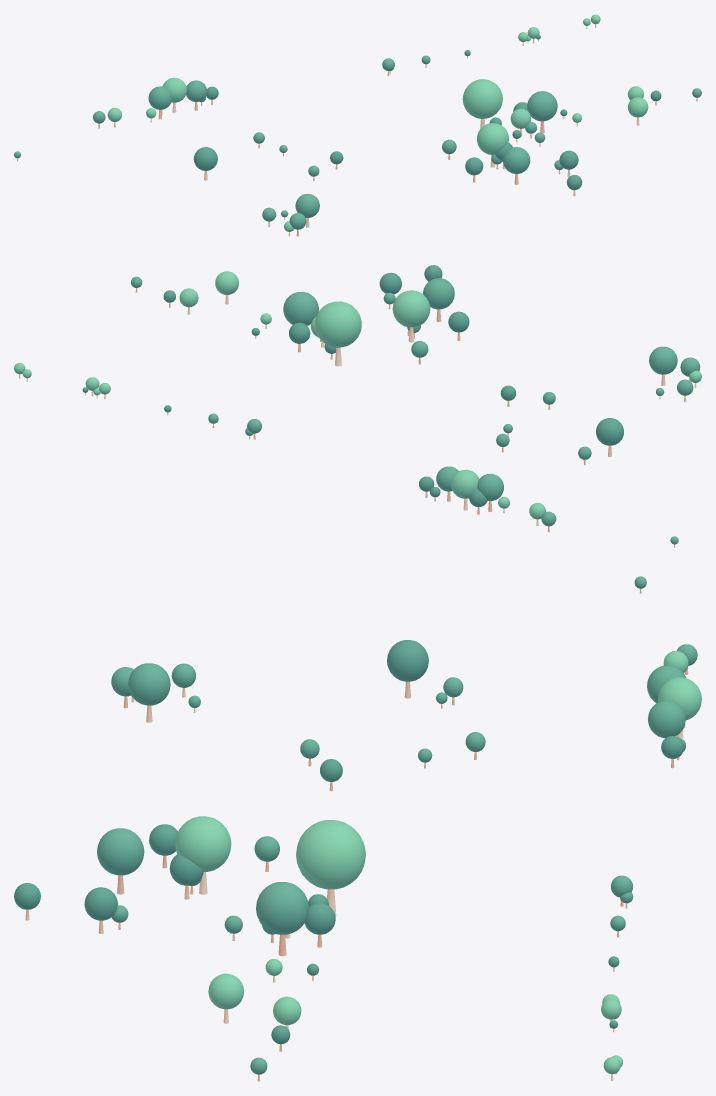
File: plant.glb
The picture shows the model from 3 angles, top to bottom: view 1: azimuth 30°, elevation 25°; view 2: azimuth 150°, elevation 25°; view 3: azimuth 270°, elevation 25°; orthographic projection. The views are drawn at different scales.
Visible parts, largest first — view 1: plant-merge; view 2: plant-merge; view 3: plant-merge.
Part boxes in pixels (box(x1,y1,x2,y2)): plant-merge: box(14, 14, 701, 236); plant-merge: box(14, 265, 701, 547); plant-merge: box(14, 576, 701, 1081).
Size of the model in its own units: 264 by 23.27 by 155.
2 materials, 2 textured.
